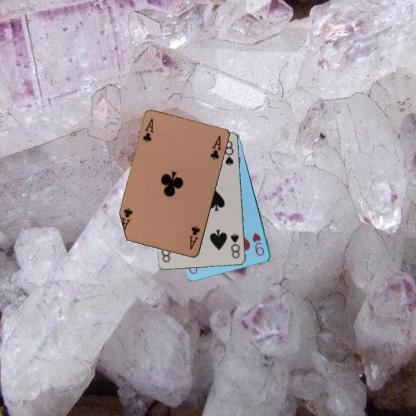8s: (228, 231, 242, 260)
9h: (250, 231, 266, 257)
Ac: (140, 116, 156, 144), (186, 223, 201, 250)
